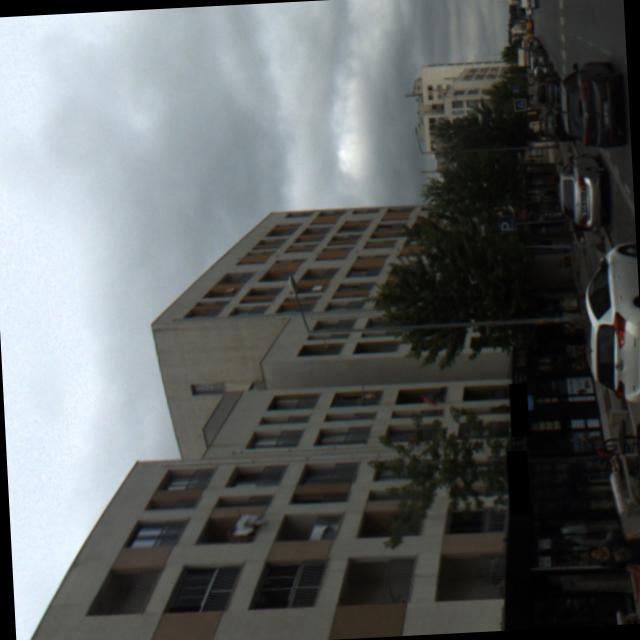SignStore: (509, 449, 530, 514), (512, 383, 530, 436)
